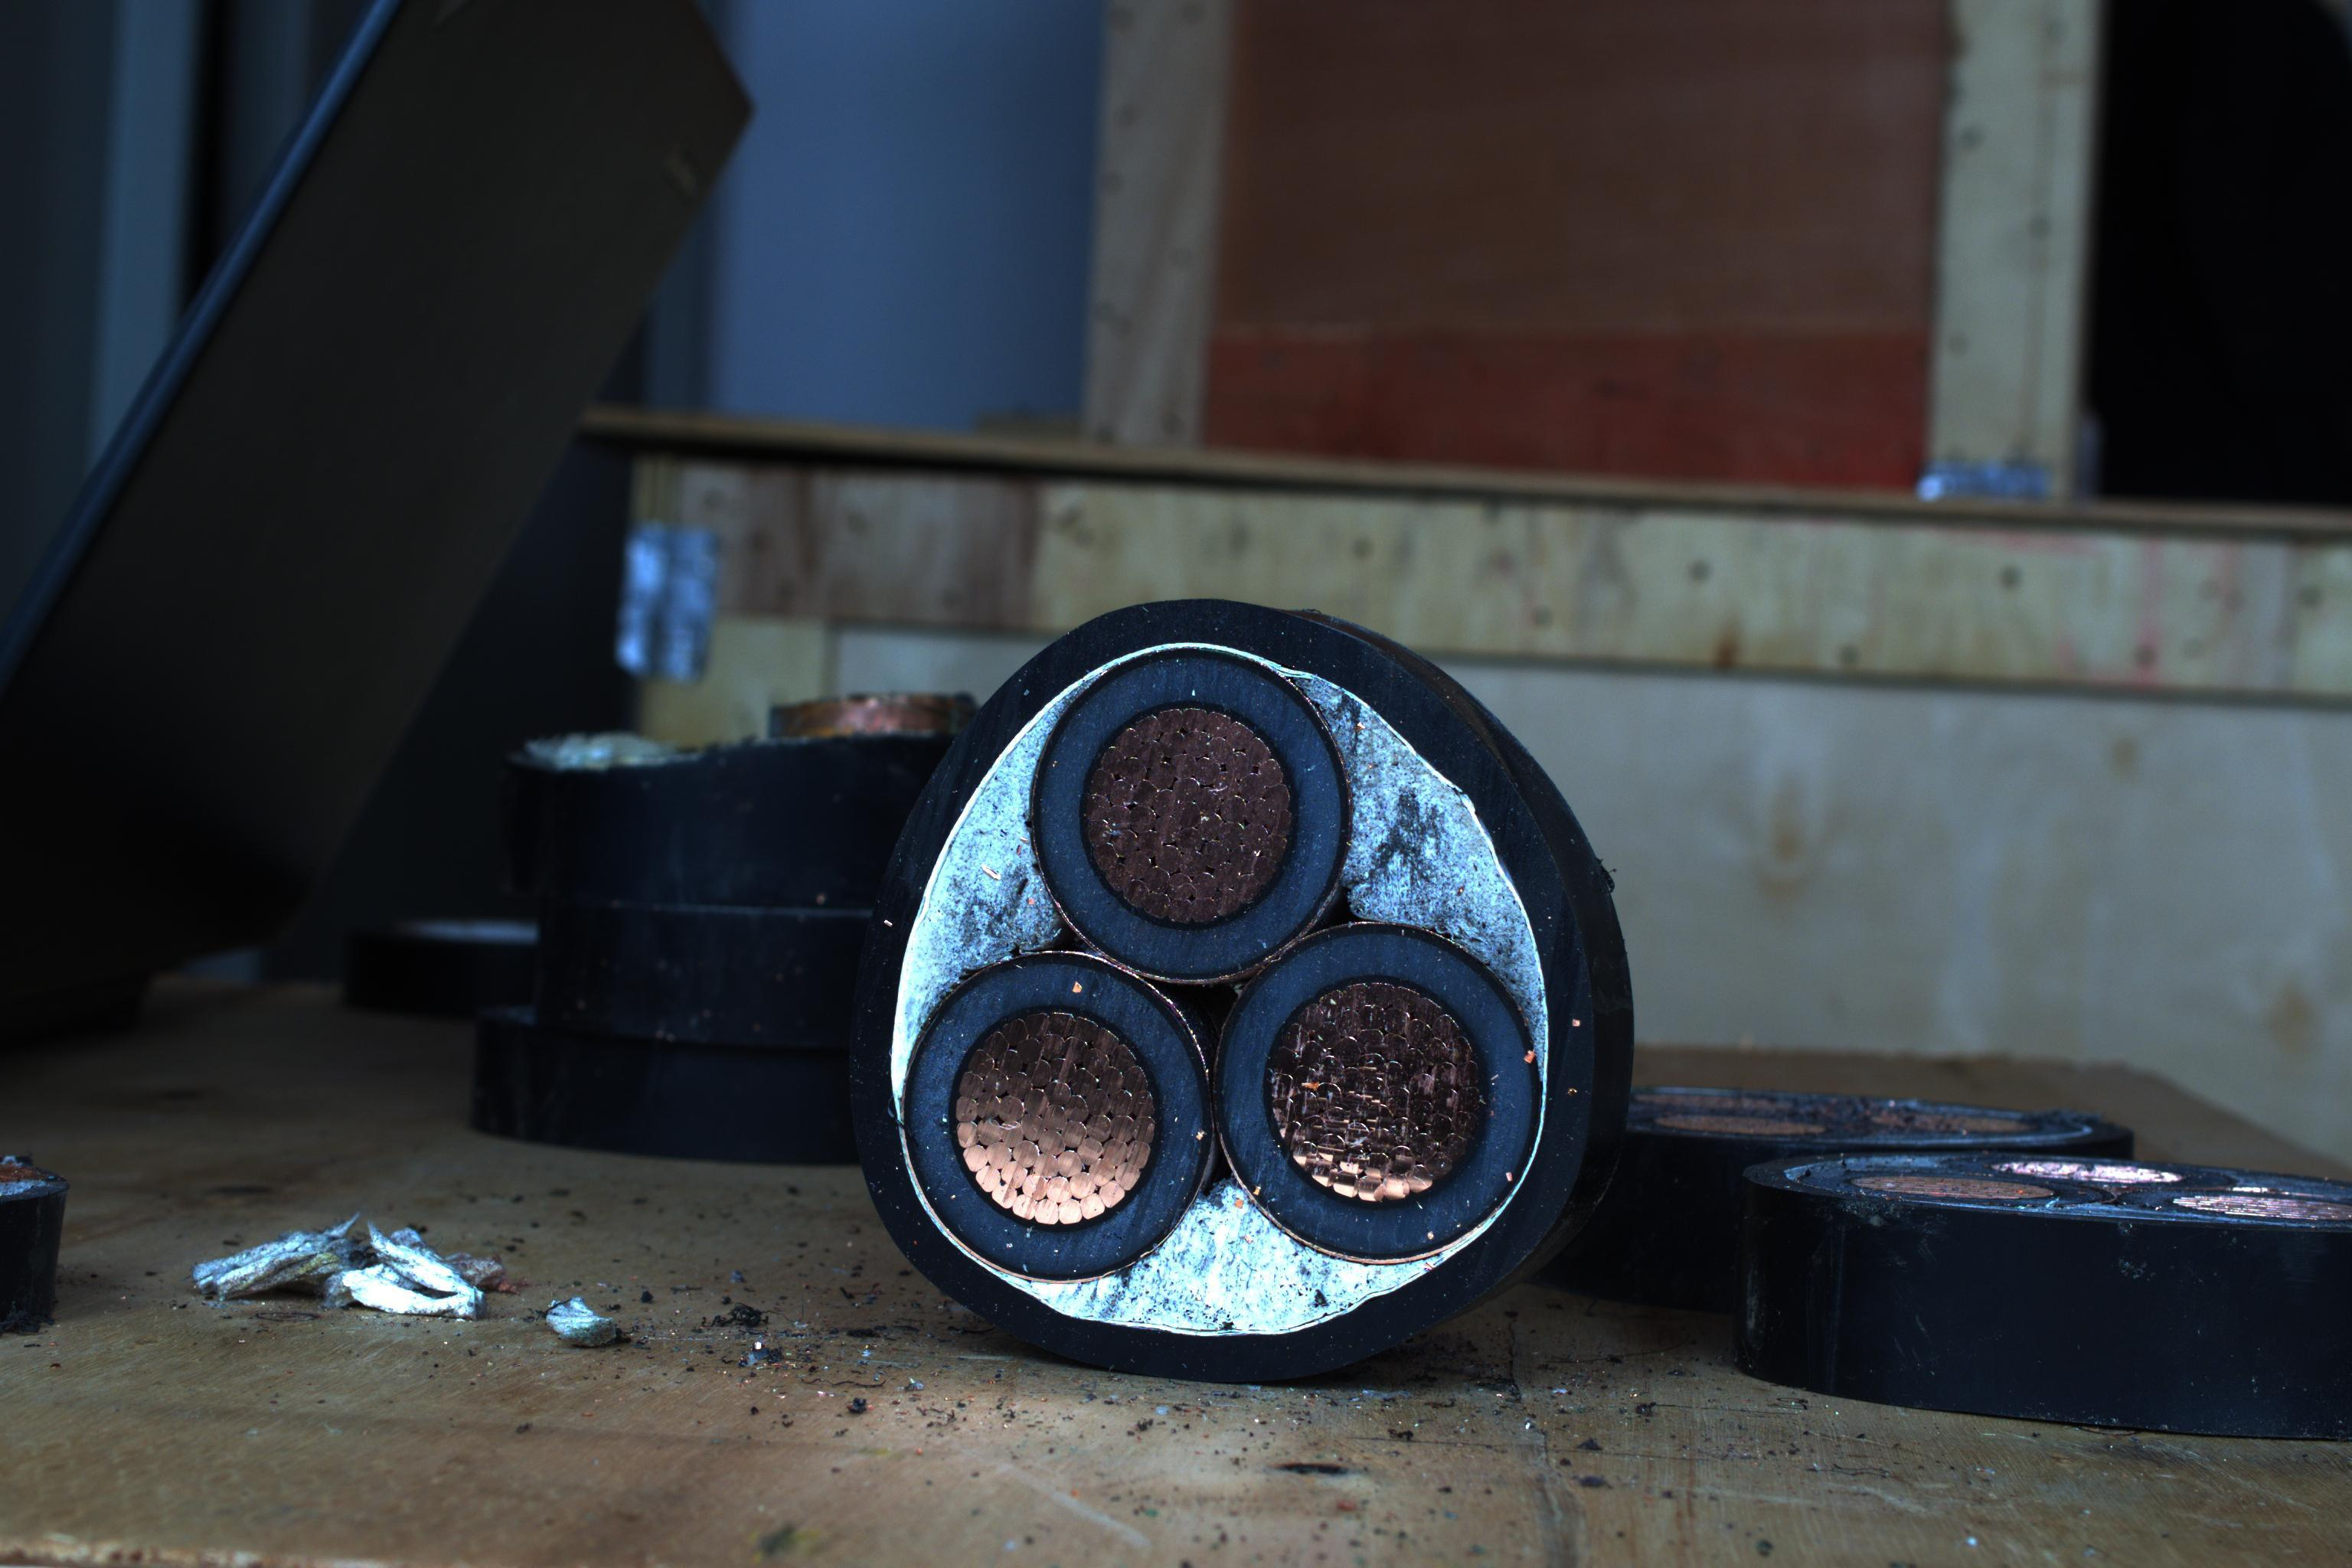ZA_YJV_8.7_10kV_3x400: (873, 618, 1626, 1368)
